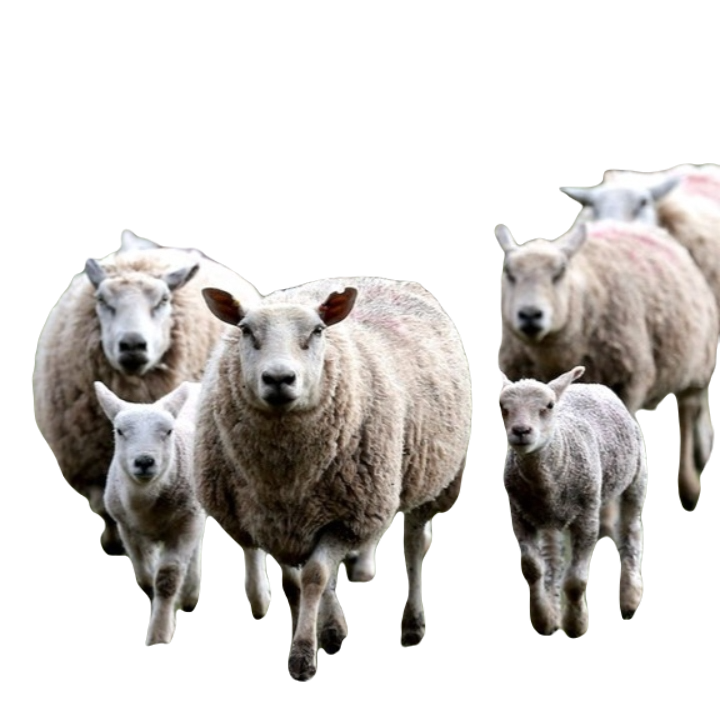Sheep: (189, 269, 474, 687), (487, 371, 648, 642), (491, 216, 718, 372), (88, 375, 189, 656), (33, 233, 201, 382)
